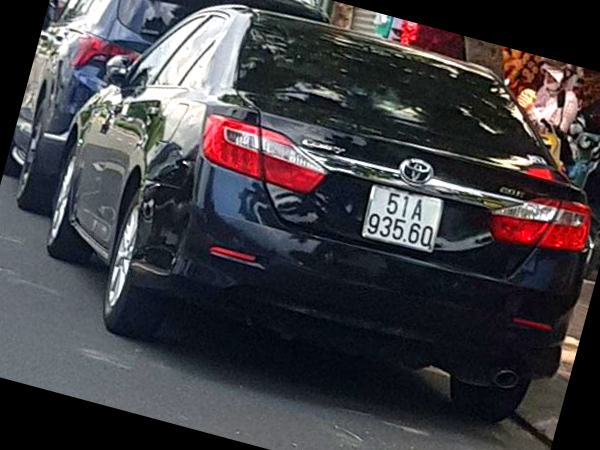lisence: (363, 184, 443, 254)
